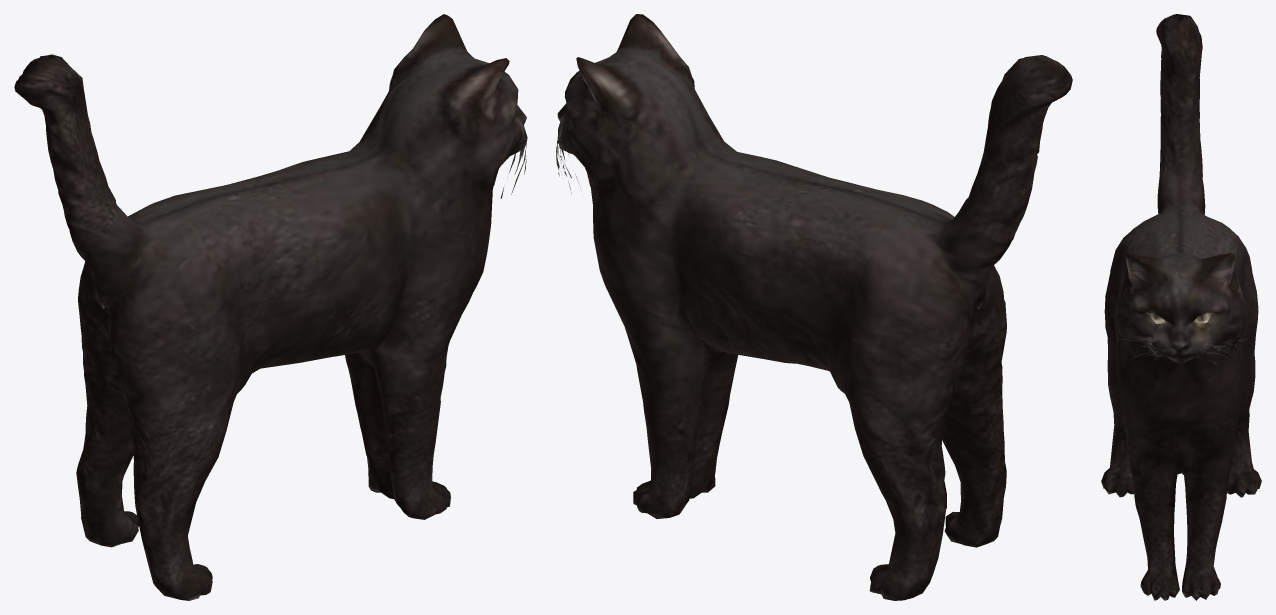
The model's file is SIMPKIN4-lo.glb.
3 renders of one model, left to right at view 1: azimuth 30°, elevation 25°; view 2: azimuth 150°, elevation 25°; view 3: azimuth 270°, elevation 25°, orthographic. The views are drawn at different scales.
Parts seen in each view (by area): view 1: tripo_node_e91e2a4e-940c-4697-9245-72c367b9f12a; view 2: tripo_node_e91e2a4e-940c-4697-9245-72c367b9f12a; view 3: tripo_node_e91e2a4e-940c-4697-9245-72c367b9f12a.
Boxes of the visible parts, <box> form: tripo_node_e91e2a4e-940c-4697-9245-72c367b9f12a: <box>14,14,527,600</box>; tripo_node_e91e2a4e-940c-4697-9245-72c367b9f12a: <box>556,14,1072,600</box>; tripo_node_e91e2a4e-940c-4697-9245-72c367b9f12a: <box>1101,14,1261,600</box>.
Size of the model in its own units: 0.9977 by 0.9991 by 0.3357.
1 material, 1 textured.
